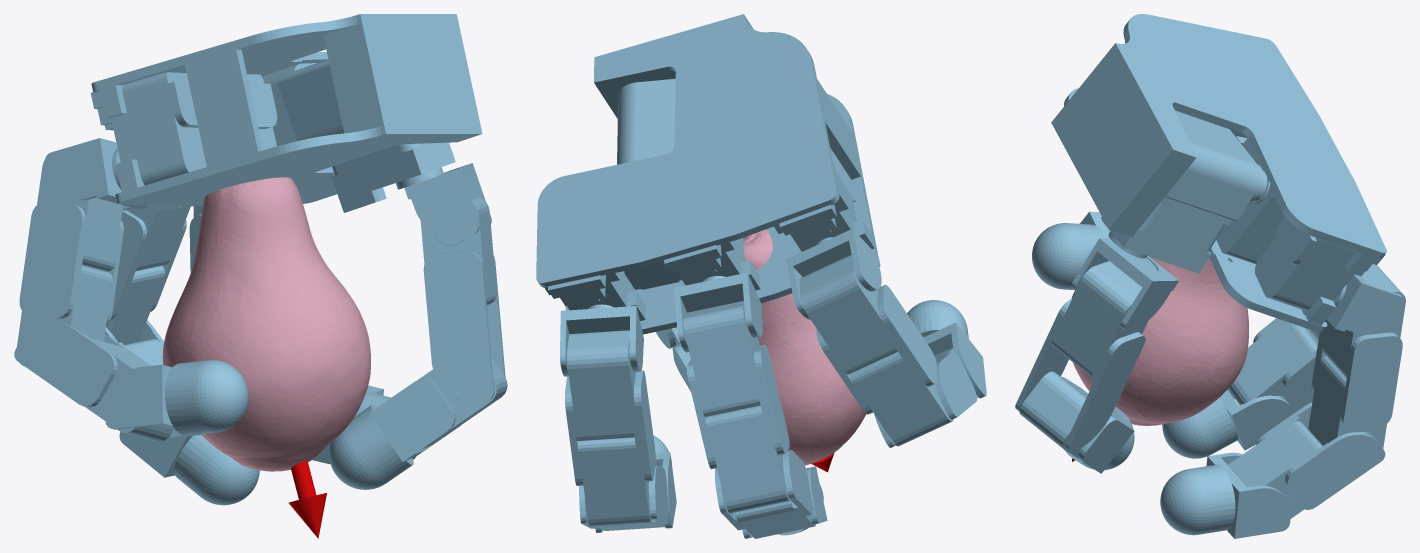
The picture shows the model from 3 angles, left to right: view 1: azimuth 30°, elevation 25°; view 2: azimuth 150°, elevation 25°; view 3: azimuth 270°, elevation 25°; orthographic projection. The views are drawn at different scales.
Parts seen in each view (by area): view 1: world, pear.stl; view 2: world, pear.stl; view 3: world, pear.stl.
Boxes of the visible parts, <box> form: world: <box>14,14,507,538</box>; pear.stl: <box>162,177,370,471</box>; world: <box>536,14,986,538</box>; pear.stl: <box>743,229,866,465</box>; world: <box>1015,14,1405,538</box>; pear.stl: <box>1071,256,1248,425</box>.
Size of the model in its own units: 0.161 by 0.1835 by 0.1409.
